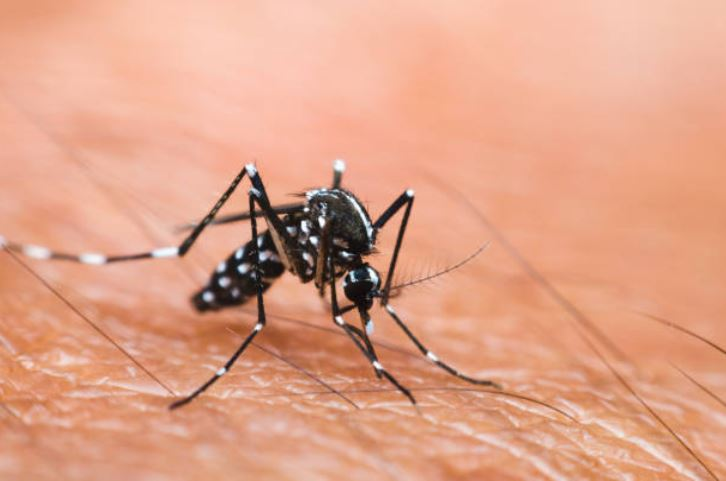dengue_mosquito: (91, 159, 492, 389)
